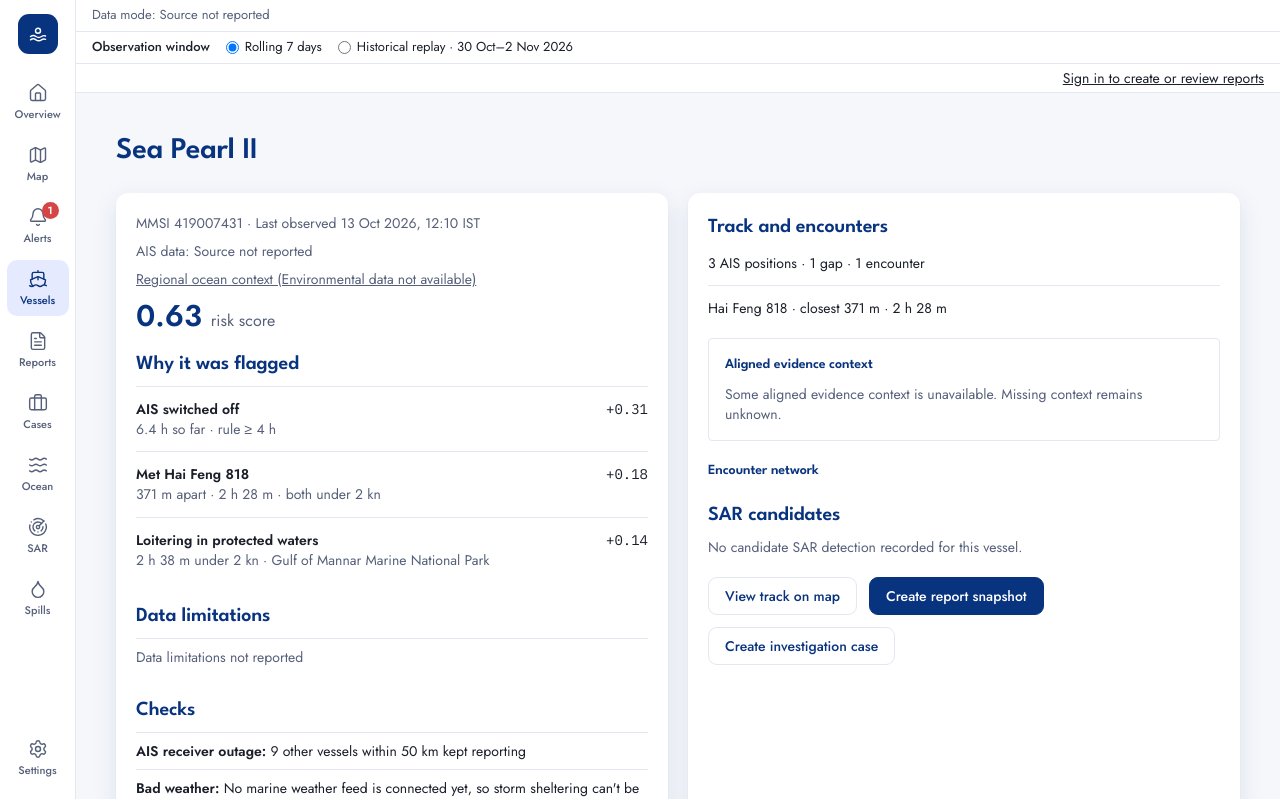
Test case: map page › comes back from the evidence screen to the same vessel
The width and height of the screenshot is (1280, 799).
Click the link "View track on map" at (782, 596), box [708,577,857,615]
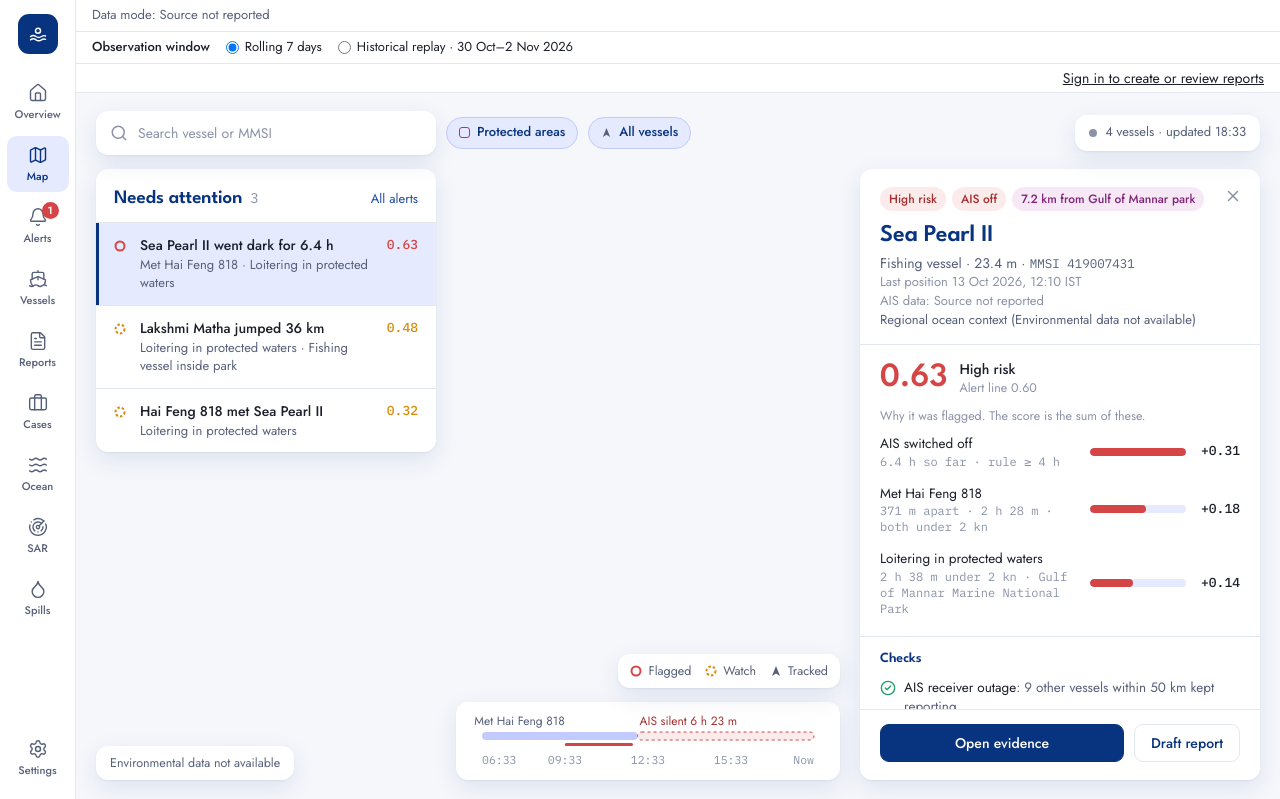
Result: the heading "Sea Pearl II" is shown at [880,224,993,246]
